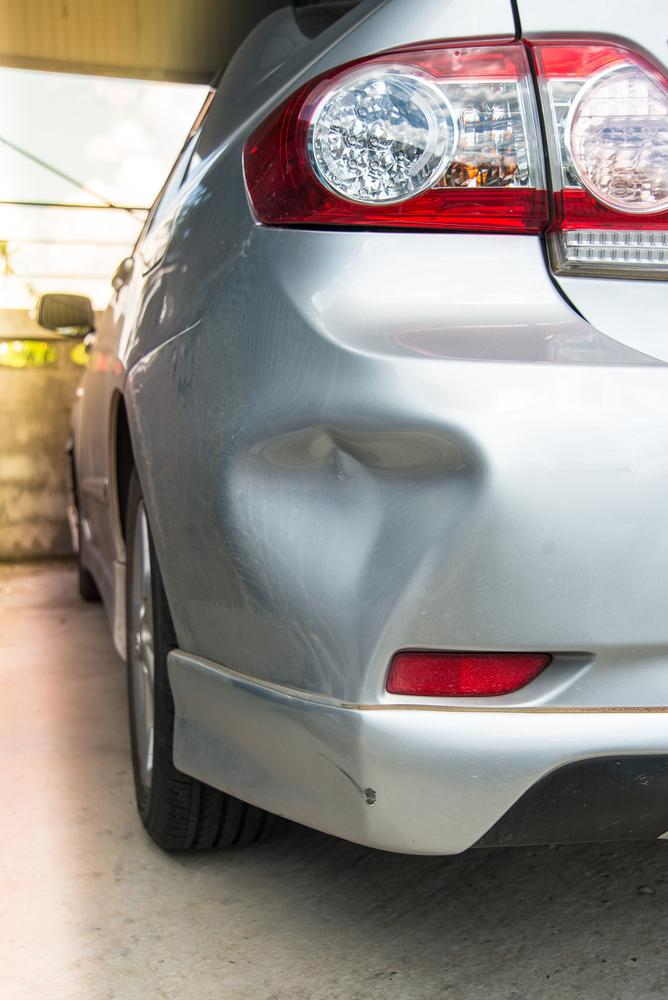dent: (225, 412, 484, 703)
scratch: (313, 747, 379, 812)
